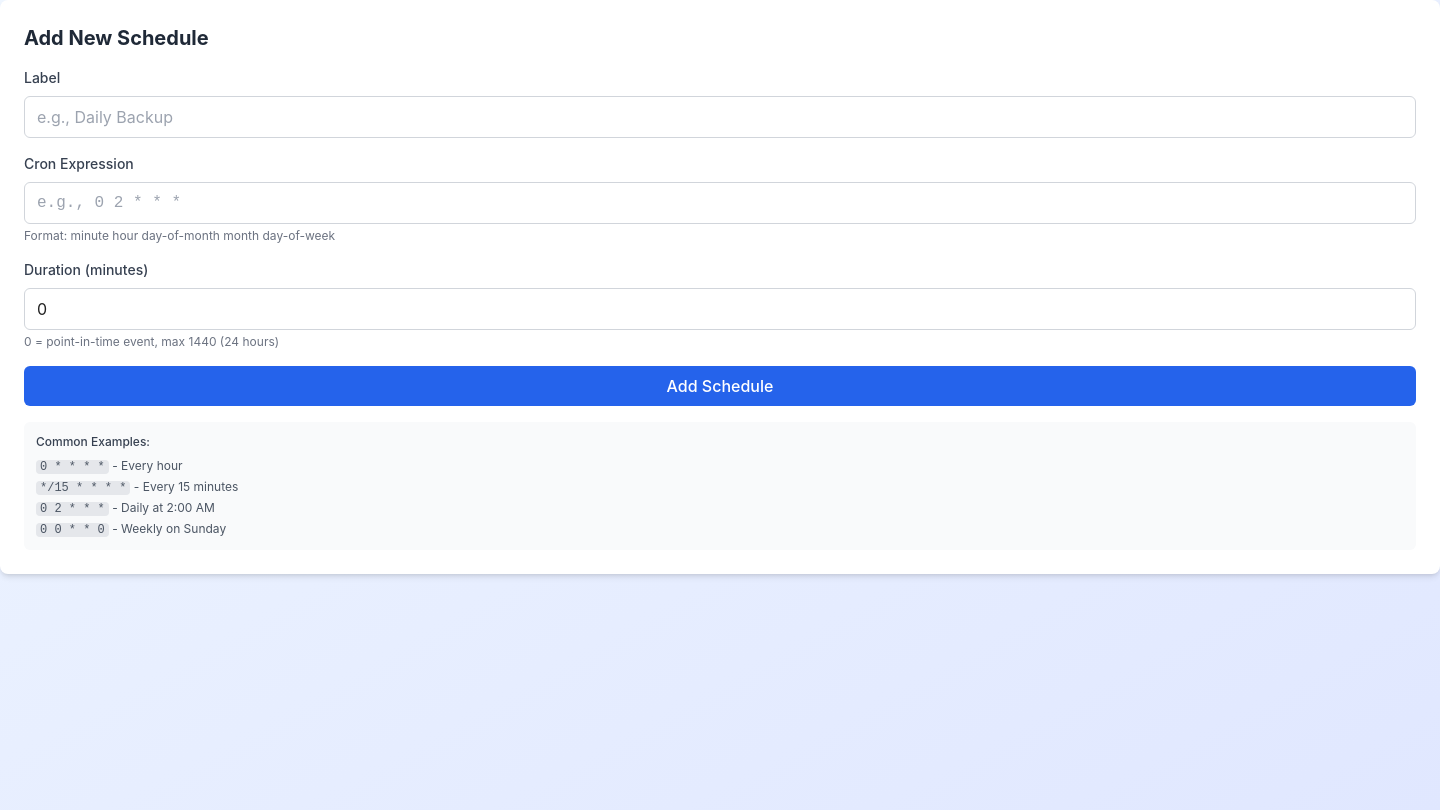
Test: ScheduleInput › Form Validation › should show error when submitting empty cron expression
In the field labelled "Label": (720, 117) [24, 96, 1416, 138], type "Test Schedule"
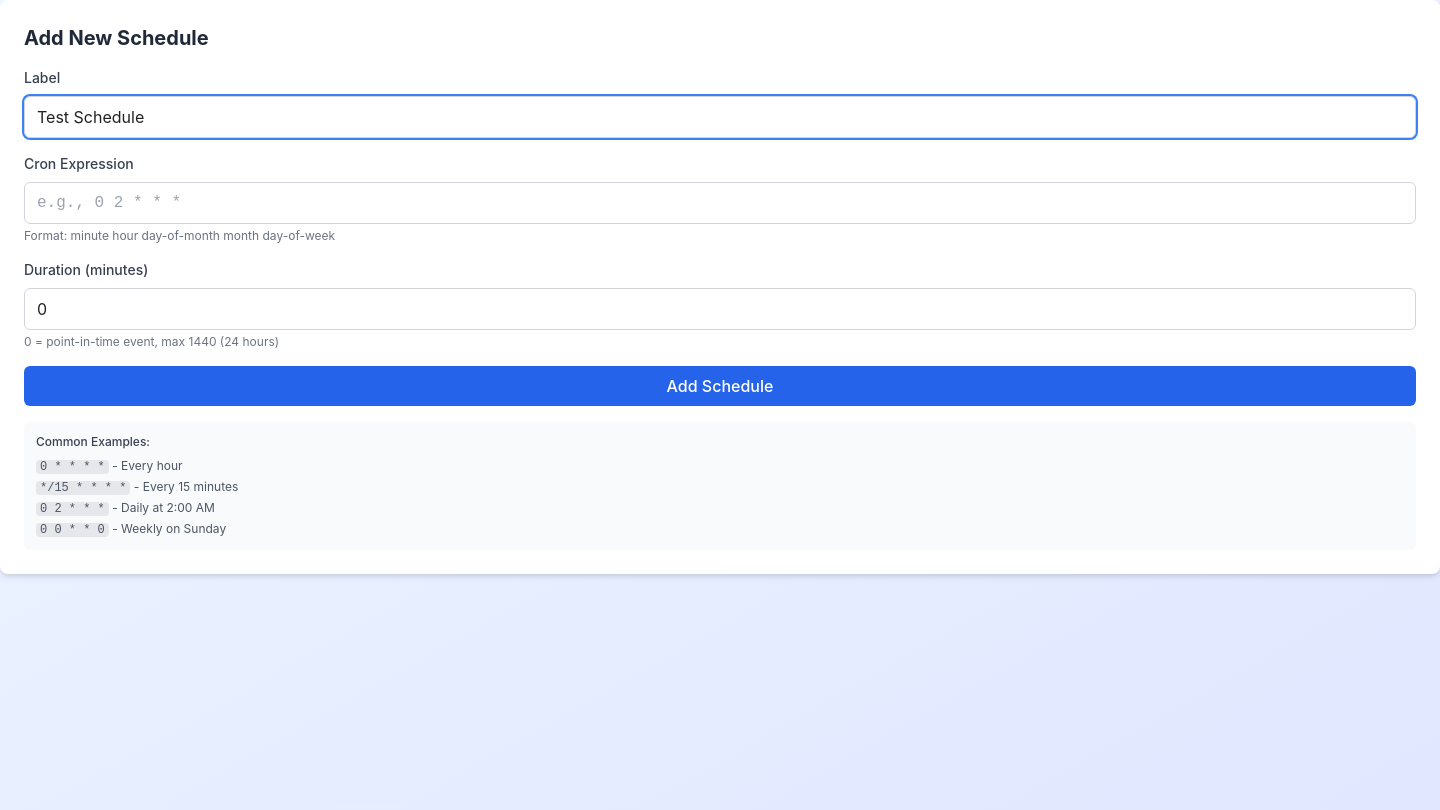
Click the button "Add Schedule": (720, 386) [24, 366, 1416, 406]
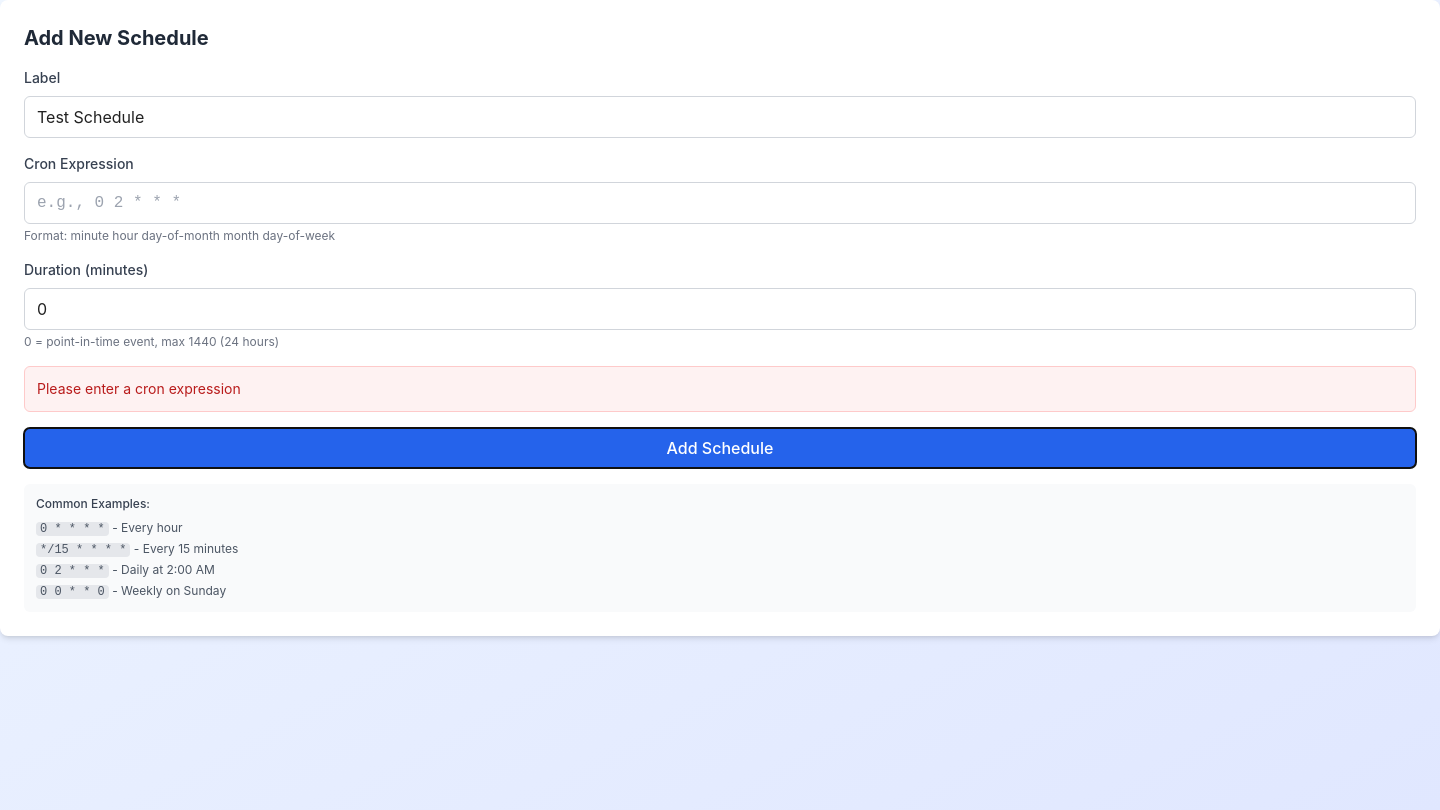
Now the text "Please enter a cron expression" is shown, box [24, 366, 1416, 412]
